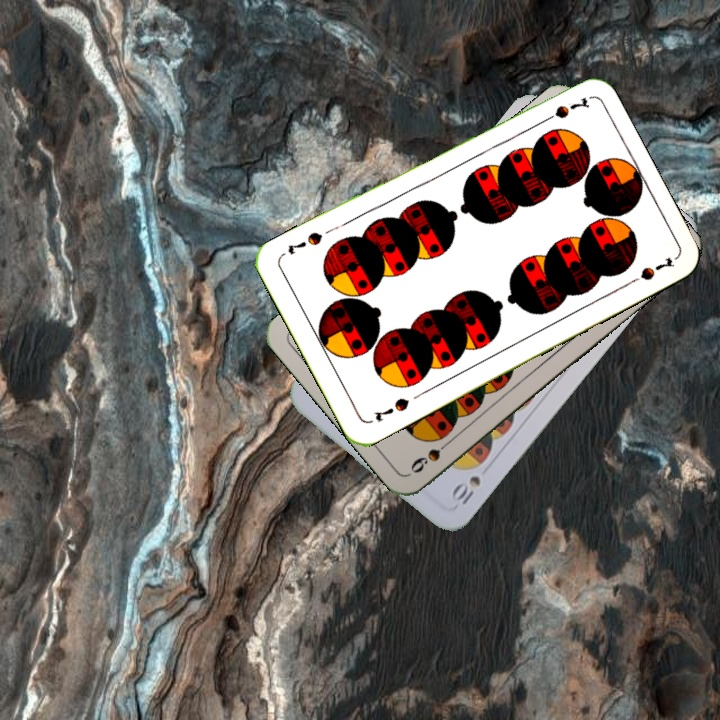S10: (447, 471, 484, 508)
S7: (535, 93, 592, 127), (370, 393, 412, 425)
S9: (406, 433, 457, 476)
